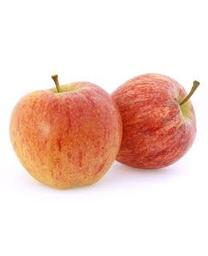apple: (8, 73, 123, 188), (109, 72, 196, 168)
